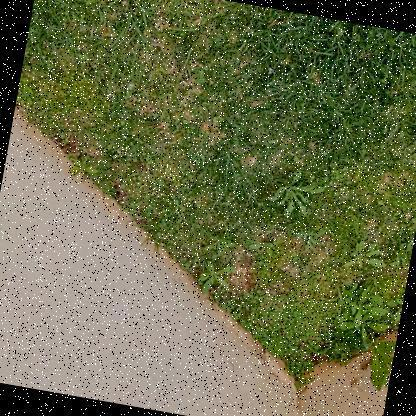Weeds: (266, 164, 327, 222), (333, 282, 389, 333), (312, 324, 370, 368), (335, 307, 391, 346), (340, 234, 388, 277), (362, 335, 396, 394), (193, 257, 236, 301), (325, 278, 361, 316), (202, 230, 236, 259), (362, 273, 393, 303), (294, 224, 326, 253), (389, 234, 414, 270), (386, 280, 406, 321), (66, 157, 99, 181), (15, 78, 39, 109), (245, 238, 274, 260)
